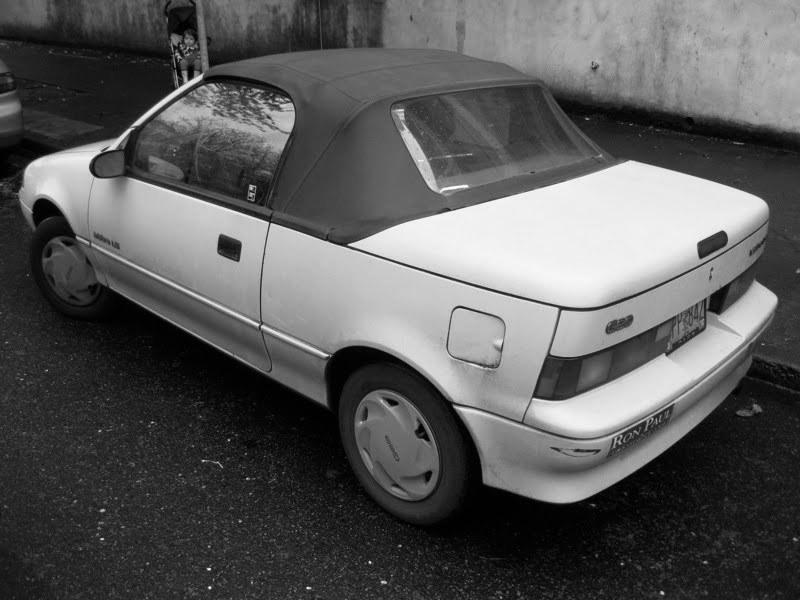car: (15, 48, 786, 532)
